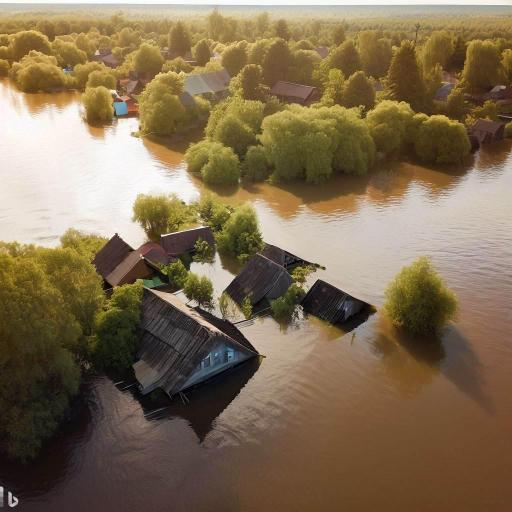flood: (0, 80, 512, 512), (190, 252, 244, 298)
house: (124, 284, 260, 404), (220, 246, 292, 320), (91, 231, 161, 287), (304, 276, 368, 328), (156, 220, 214, 254), (270, 80, 321, 106), (470, 115, 506, 147)
